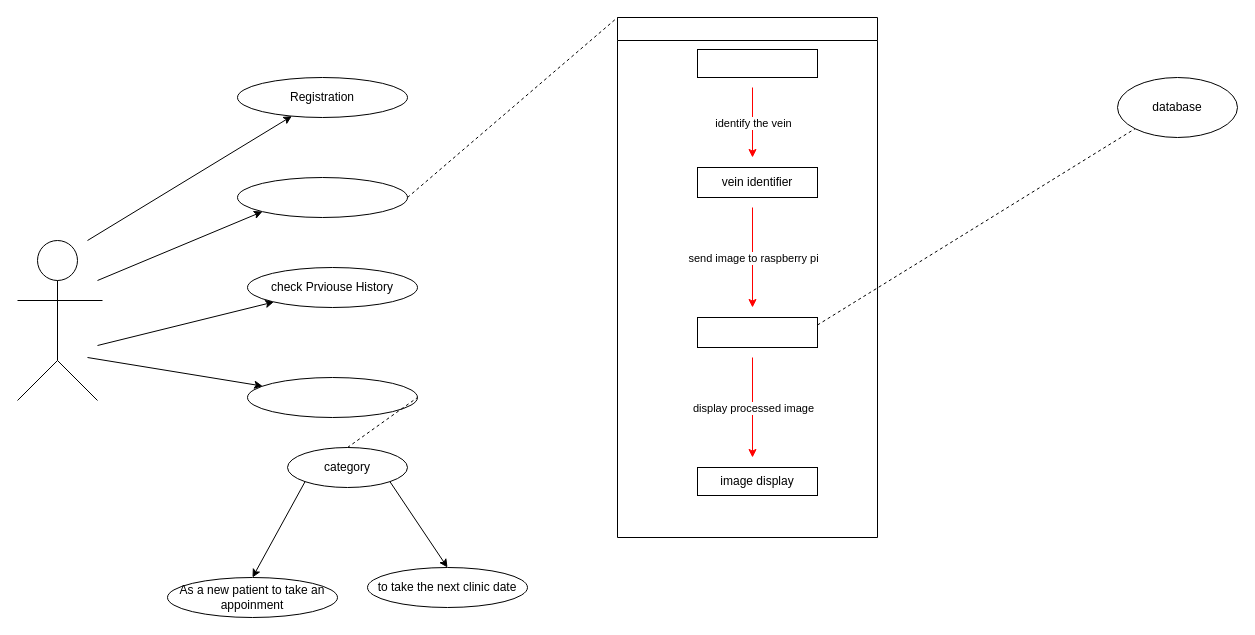
Image size: 1255x635. Some labels were removed from this diagram. The shapes that lost their labels are listed below. From the top down, each one's box as (x1, y1, x2, y2) in pixels, then its label:
(696, 48, 818, 78): Patient
(236, 176, 408, 218): login
(696, 316, 818, 348): image processor
(246, 376, 418, 418): channel the doctor
